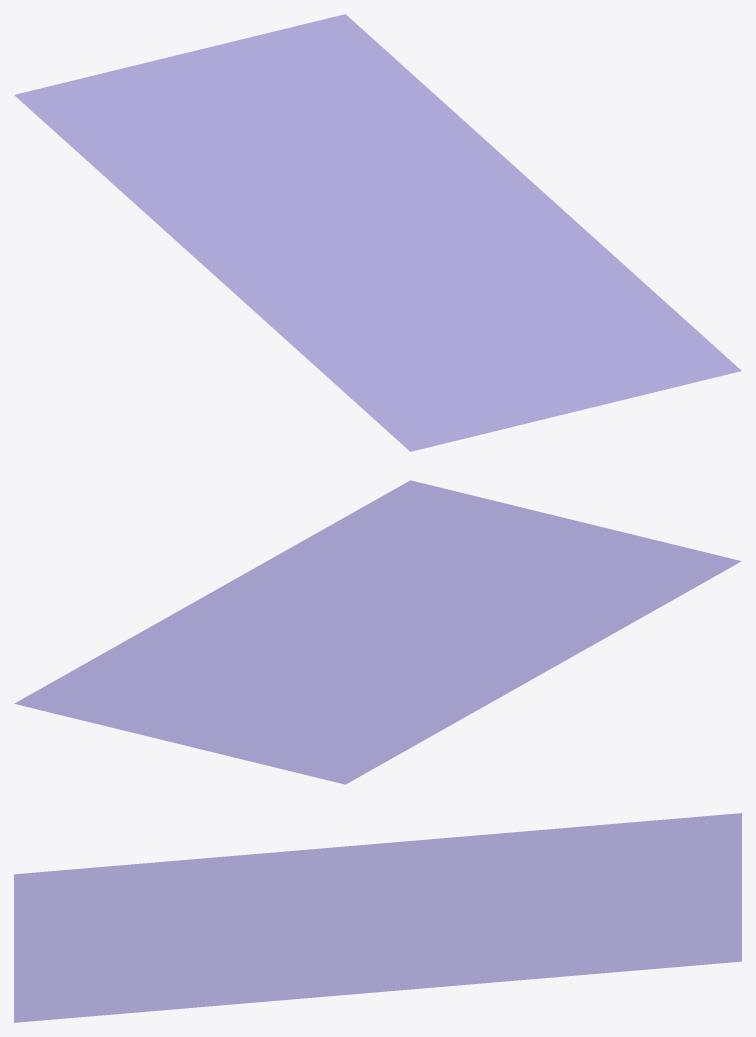
File: deco_def1.gltf
3 views of the same model, one above another, from view 1: azimuth 30°, elevation 25°; view 2: azimuth 150°, elevation 25°; view 3: azimuth 270°, elevation 25° (orthographic). The views are drawn at different scales.
Parts seen in each view (by area): view 1: deco_def1; view 2: deco_def1; view 3: deco_def1.
Part boxes in pixels (x1,y1,x2,y2): deco_def1: [14, 14, 741, 451]; deco_def1: [14, 480, 741, 784]; deco_def1: [14, 813, 741, 1022].
Size of the model in its own units: 0.127 by 0.0244 by 0.2629.
